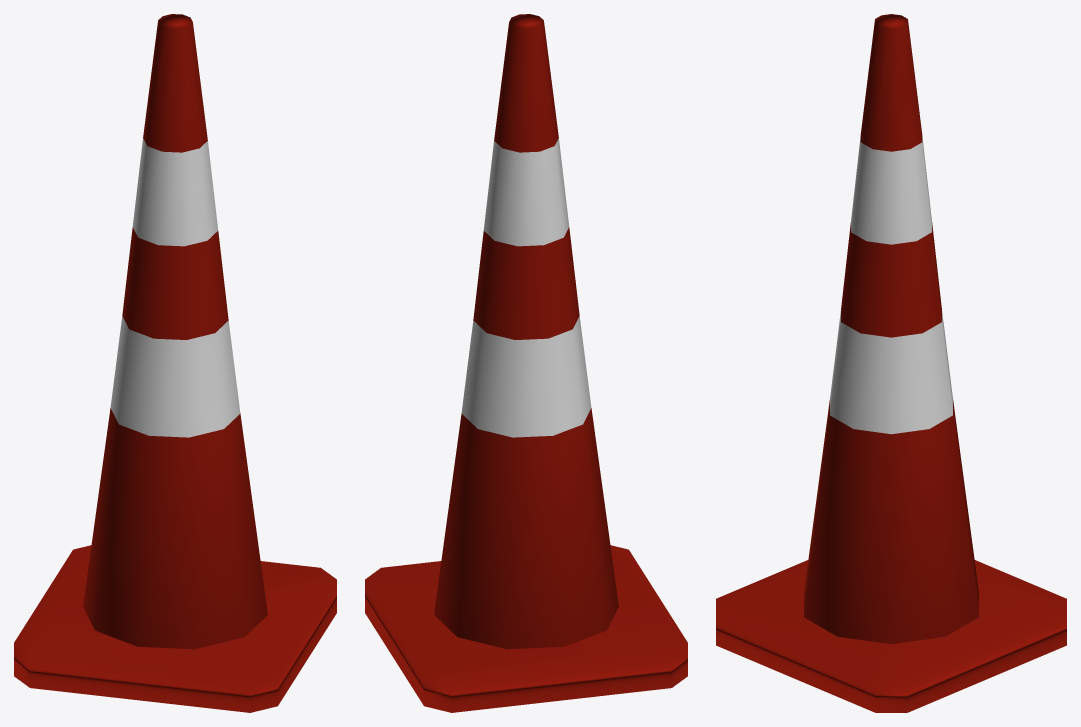
The model's file is Traffic_Cone.fbx.
3 renders of one model, left to right at view 1: azimuth 30°, elevation 25°; view 2: azimuth 150°, elevation 25°; view 3: azimuth 270°, elevation 25°, orthographic.
Parts seen in each view (by area): view 1: Traffic_Cone; view 2: Traffic_Cone; view 3: Traffic_Cone.
Part boxes in pixels (x1,y1,x2,y2): Traffic_Cone: (14,14,336,712); Traffic_Cone: (365,14,687,712); Traffic_Cone: (716,14,1066,712).
Size of the model in its own units: 3.81 by 7.4 by 3.81.
